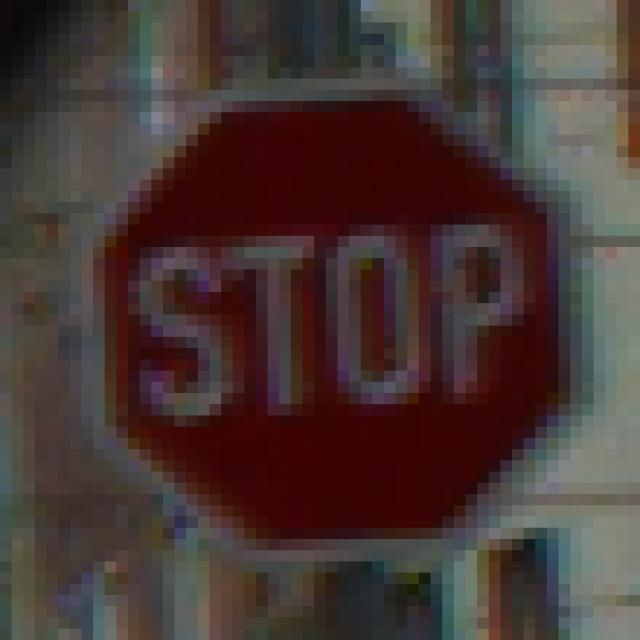STOP: (71, 57, 583, 574)
